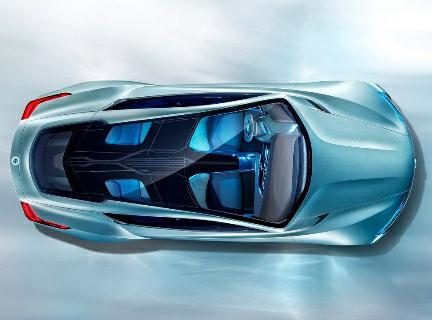别克-Riviera: (6, 71, 425, 263)
